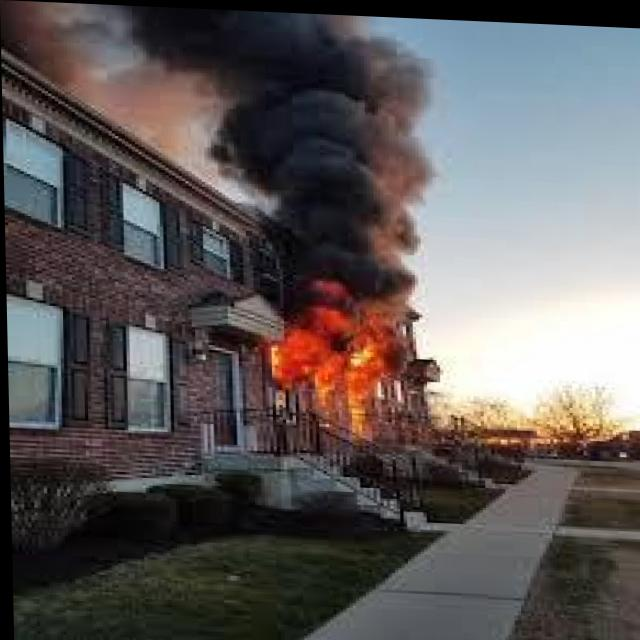fire: (239, 270, 436, 452)
